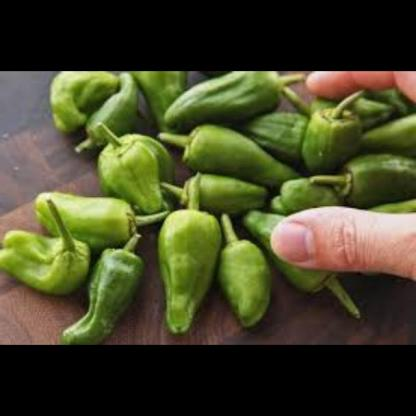hot pepper: (153, 170, 236, 345), (248, 212, 362, 315), (57, 229, 155, 344), (0, 190, 94, 300), (31, 184, 170, 254), (92, 118, 178, 221), (211, 204, 275, 337), (158, 119, 294, 180), (156, 70, 300, 124), (296, 79, 380, 169), (73, 70, 146, 150), (323, 148, 416, 206), (48, 71, 124, 132), (268, 166, 348, 216), (246, 104, 319, 154), (356, 99, 416, 149)
